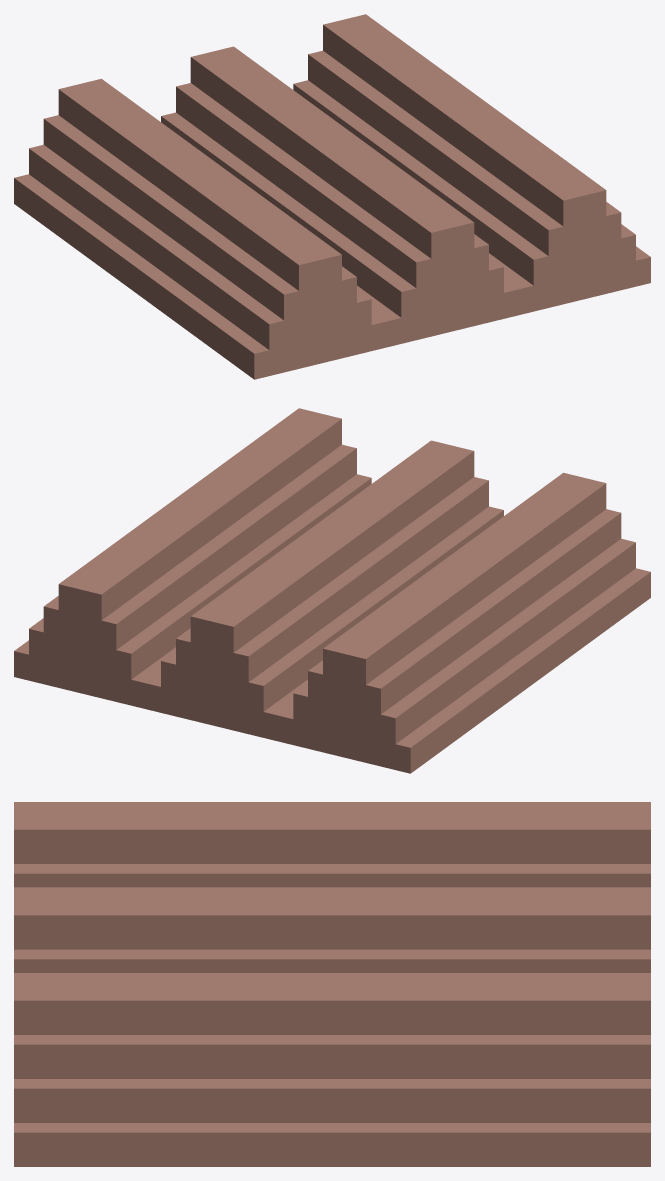
The model's file is voxel-city-districts-sawtooth-roof-e6d20484__24914.glb.
3 renders of one model, top to bottom at view 1: azimuth 30°, elevation 25°; view 2: azimuth 150°, elevation 25°; view 3: azimuth 270°, elevation 25°, orthographic. The views are drawn at different scales.
Visible parts, largest first — view 1: sawtooth-roof-roof; view 2: sawtooth-roof-roof; view 3: sawtooth-roof-roof.
Boxes of the visible parts, box(x1,y1,x2,y2) form: sawtooth-roof-roof: box(14, 14, 650, 379); sawtooth-roof-roof: box(14, 408, 650, 773); sawtooth-roof-roof: box(14, 802, 650, 1166).
Size of the model in its own units: 4 by 0.9998 by 4.2.
